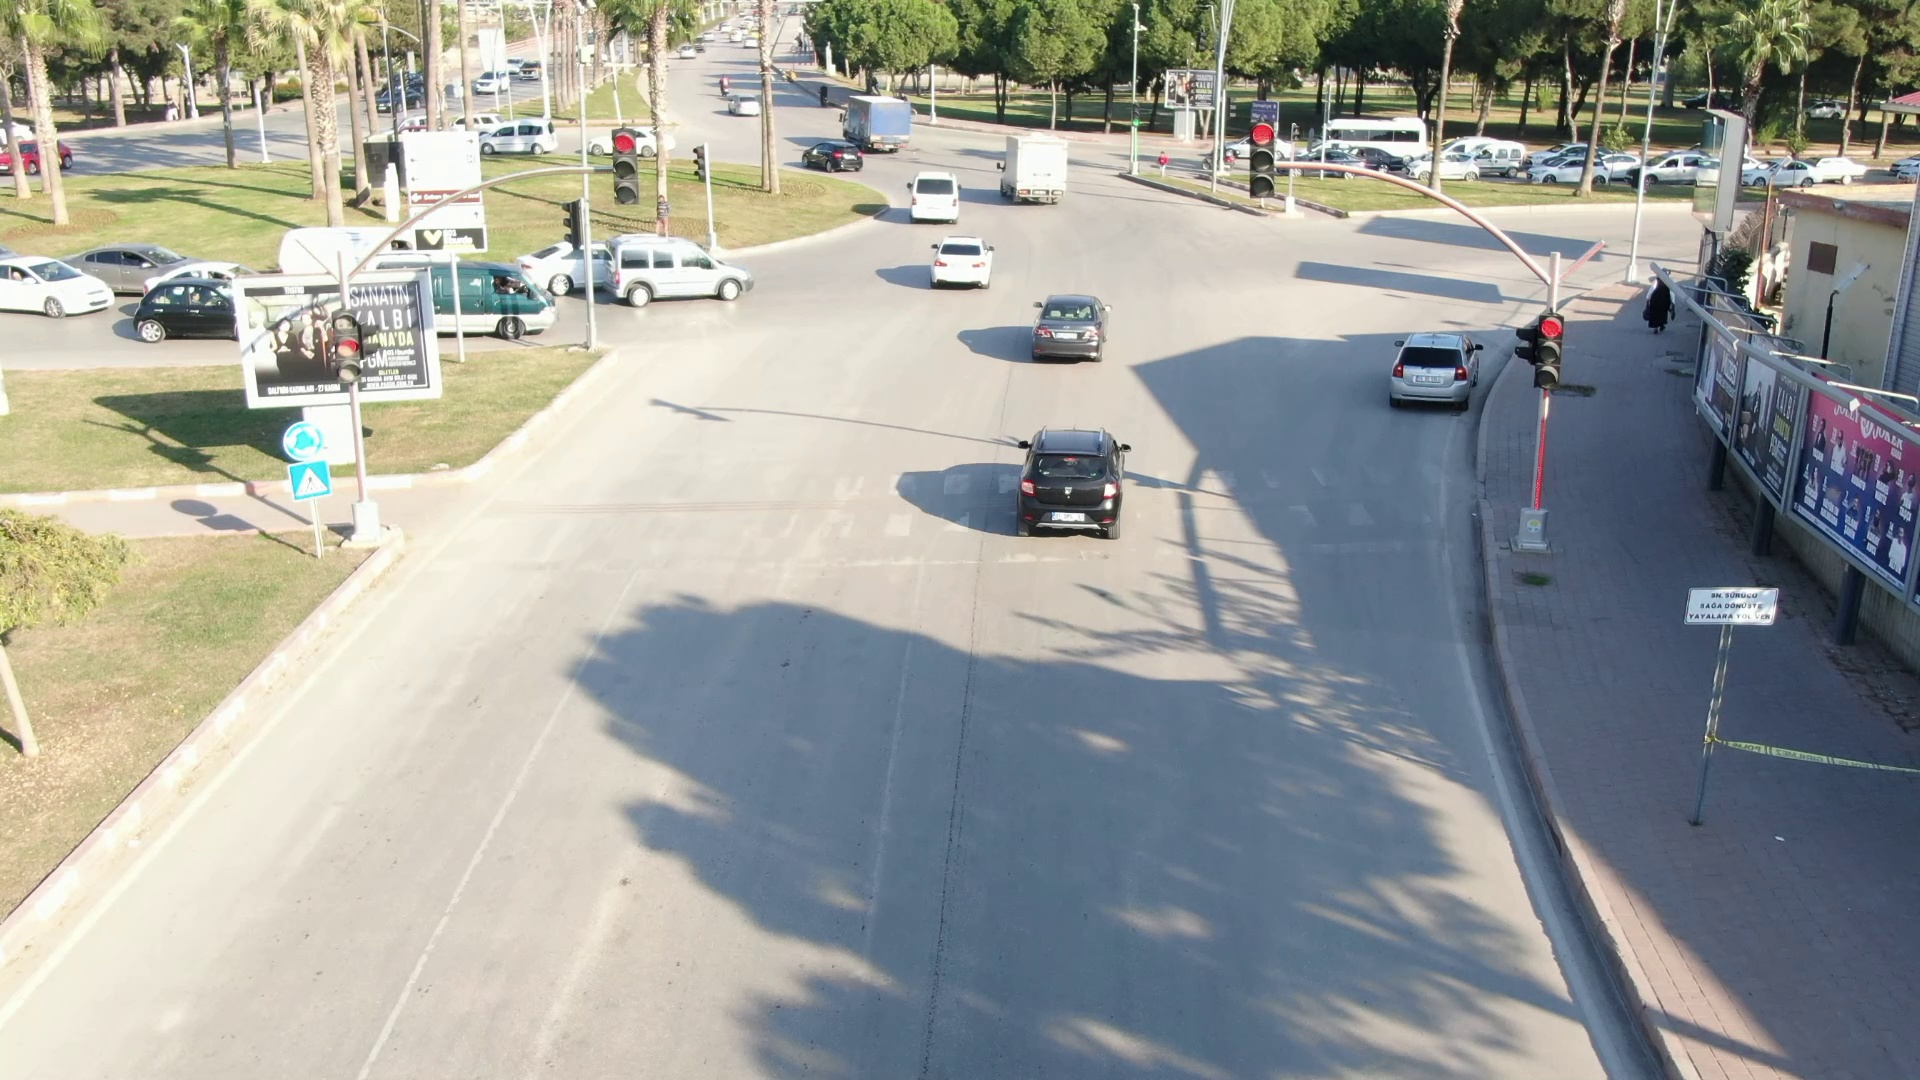car: (1000, 415, 1160, 568), (602, 217, 771, 315), (1364, 309, 1488, 418), (1016, 287, 1147, 367), (992, 118, 1082, 215), (829, 85, 927, 157), (921, 222, 1012, 298), (897, 161, 979, 233), (792, 128, 869, 184)
person: (1626, 255, 1685, 340)
